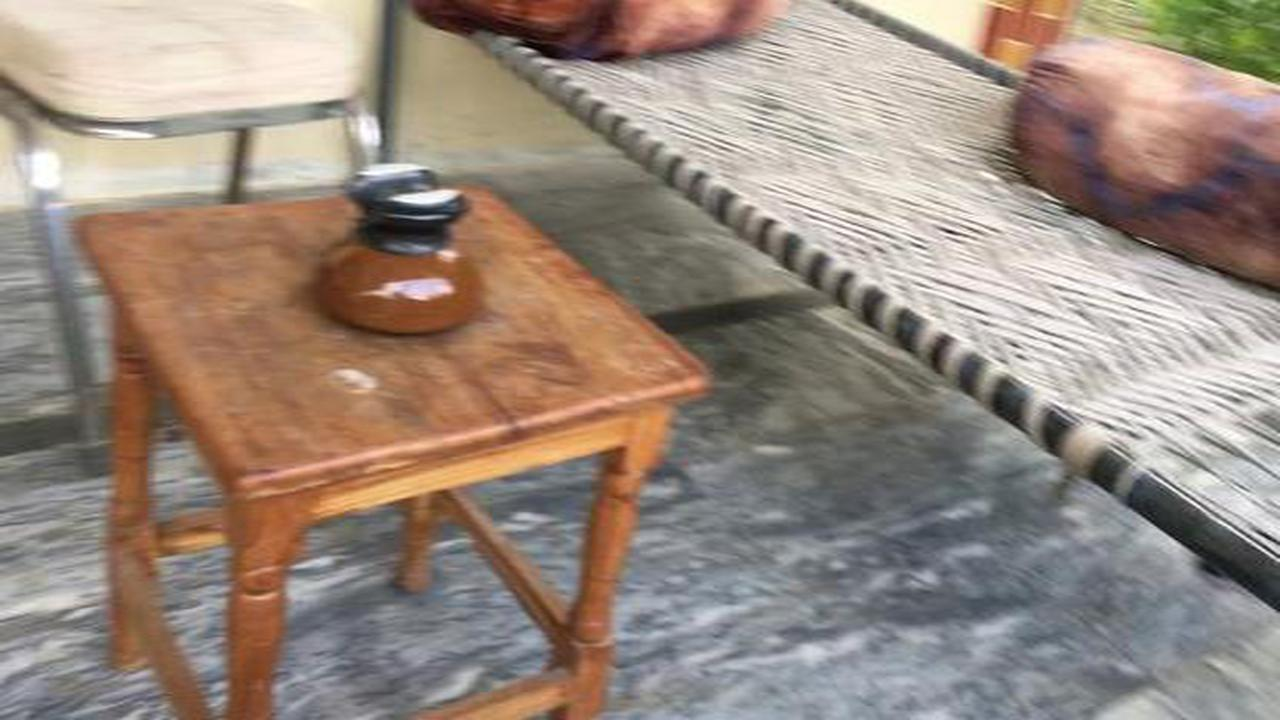insulator_pin: (293, 149, 508, 361)
